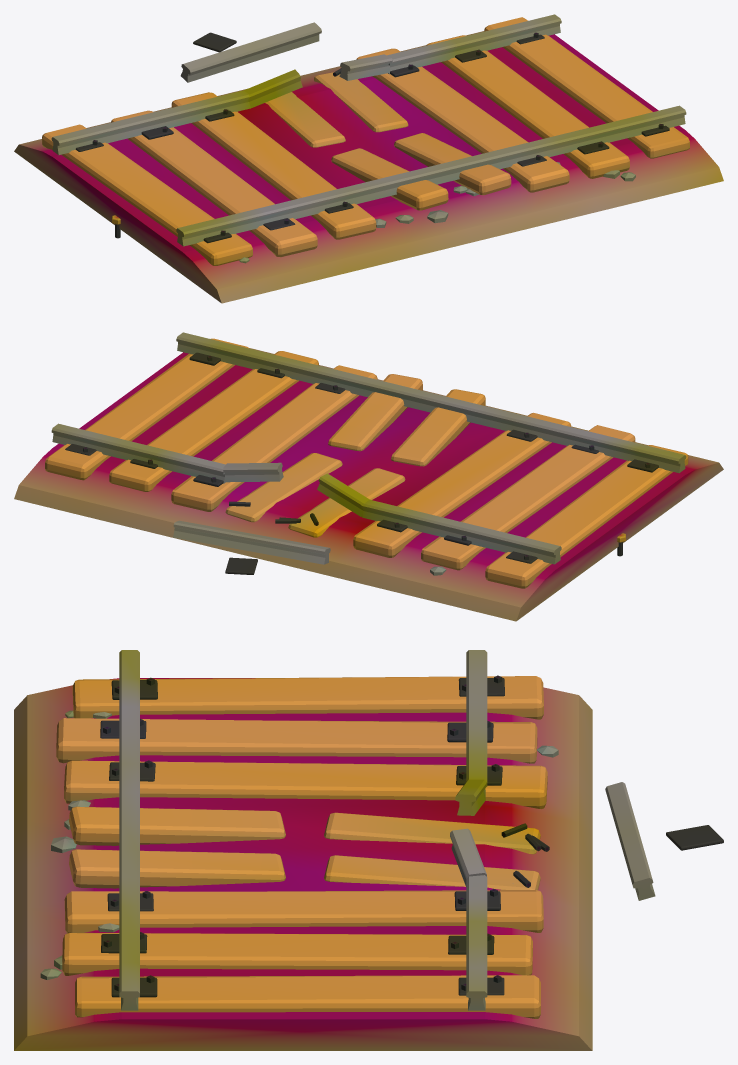
Rendered from Track_Broken_6m.glb.
3 renders of one model, top to bottom at view 1: azimuth 30°, elevation 25°; view 2: azimuth 150°, elevation 25°; view 3: azimuth 270°, elevation 25°, orthographic. The views are drawn at different scales.
Parts seen in each view (by area): view 1: Track_Broken_6m, Broken_Bits; view 2: Track_Broken_6m, Broken_Bits; view 3: Track_Broken_6m, Broken_Bits.
Part boxes in pixels (box(x1,y1,x2,y2)): Track_Broken_6m: box(14, 14, 723, 303); Broken_Bits: box(180, 22, 511, 210); Track_Broken_6m: box(14, 332, 723, 621); Broken_Bits: box(173, 374, 485, 574); Track_Broken_6m: box(14, 650, 592, 1050); Broken_Bits: box(69, 779, 723, 900).
Bounding box in the file's own units: 6.07 × 0.7403 × 5.28.
